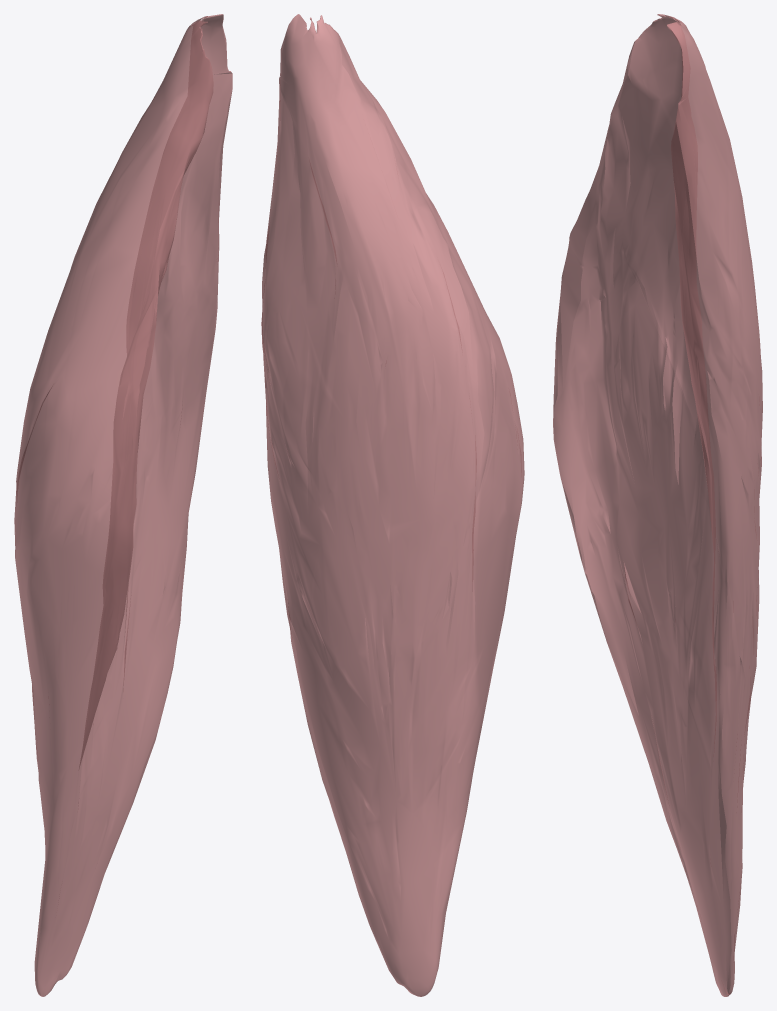
3 renders of one model, left to right at view 1: azimuth 30°, elevation 25°; view 2: azimuth 150°, elevation 25°; view 3: azimuth 270°, elevation 25°, orthographic. The views are drawn at different scales.
Parts seen in each view (by area): view 1: BP8819_left_soleus; view 2: BP8819_left_soleus; view 3: BP8819_left_soleus.
Boxes of the visible parts, x1,y1,x2,y2 form: BP8819_left_soleus: (14, 14, 232, 996); BP8819_left_soleus: (261, 14, 524, 996); BP8819_left_soleus: (553, 14, 762, 996).
Size of the model in its own units: 0.0802 by 0.3262 by 0.0589.
